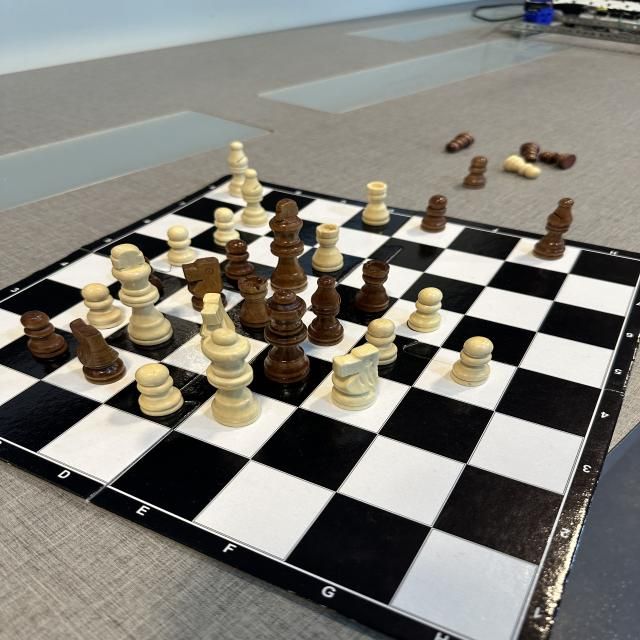Black-Bishop: (533, 198, 574, 260), (308, 278, 344, 346)
Black-King: (268, 198, 306, 294)
Black-Knight: (70, 318, 126, 385), (182, 256, 227, 311)
Black-Pawn: (21, 311, 67, 358), (226, 239, 253, 279), (421, 195, 448, 232), (462, 156, 489, 190), (539, 152, 576, 168), (446, 132, 474, 153), (520, 142, 540, 163)
Black-Queen: (264, 289, 309, 384)
Black-Rook: (238, 274, 275, 329), (354, 260, 390, 312)
White-Bishop: (241, 170, 268, 228), (229, 141, 250, 198)
White-King: (110, 244, 175, 344)
White-Knight: (331, 344, 378, 411), (201, 292, 236, 356)
White-Pawn: (136, 362, 183, 417), (450, 335, 494, 385), (82, 283, 124, 329), (363, 317, 398, 366), (409, 286, 443, 332), (167, 226, 195, 266), (213, 208, 240, 246), (504, 155, 540, 178)
White-Queen: (202, 328, 261, 428)
White-Rook: (311, 223, 344, 272), (362, 181, 390, 226)
